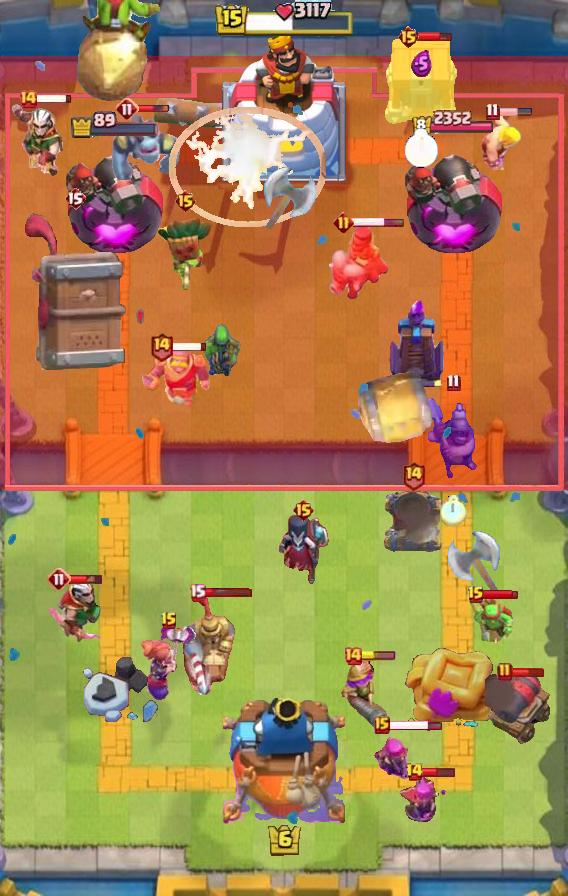archer: (480, 114, 524, 169)
bandit: (423, 395, 483, 483)
barbarian-evolution: (170, 106, 327, 228)
bomb: (382, 39, 460, 125)
bomb-tower: (336, 653, 392, 731)
clock: (213, 0, 355, 40)
dart-goblin: (23, 213, 127, 371)
dirt: (353, 366, 437, 450)
electro-spirit: (412, 51, 433, 78)
elite-barbarian: (326, 223, 390, 303)
elixir: (405, 128, 440, 168), (441, 494, 468, 525)
elixir-golem-small: (108, 112, 182, 180)
emote: (388, 720, 443, 733), (351, 217, 405, 228), (203, 586, 253, 597), (417, 30, 453, 43), (35, 92, 72, 104), (483, 589, 519, 601), (68, 573, 103, 585), (421, 766, 456, 778), (171, 341, 209, 352), (511, 666, 545, 678), (497, 107, 533, 117), (360, 651, 396, 661), (136, 104, 170, 114)
evolution-symbol: (398, 774, 452, 829), (374, 729, 414, 783)
firecracker: (141, 350, 210, 406)
giant-snowball: (202, 322, 242, 380), (468, 596, 514, 644)
goblin-barrel: (155, 215, 215, 291)
ice-spirit-evolution-symbol: (387, 297, 447, 389)
king-tower: (222, 31, 346, 181), (223, 698, 345, 826)
minion: (152, 96, 258, 134)
musketeer: (381, 489, 445, 555)
ram-rider: (178, 589, 238, 699)
rascal-boy: (276, 512, 330, 586)
royal-giant: (261, 164, 319, 236), (445, 528, 503, 600)
royal-giant-evolution: (485, 670, 553, 744)
selected: (69, 111, 158, 139), (411, 111, 495, 138)
skeleton-king: (9, 103, 77, 179), (45, 578, 107, 646)
tesla-evolution: (142, 624, 199, 703)
text: (149, 331, 174, 362), (401, 461, 426, 491), (115, 97, 139, 121), (47, 567, 71, 591), (397, 25, 420, 49), (175, 189, 198, 213), (292, 498, 315, 522), (64, 186, 86, 210), (334, 211, 355, 233), (18, 89, 38, 109), (343, 646, 363, 666), (404, 762, 423, 782), (467, 585, 485, 605), (160, 611, 178, 631), (190, 582, 207, 601), (497, 662, 513, 682), (374, 716, 390, 734), (447, 372, 462, 391), (485, 103, 499, 121)
tower-bar: (64, 138, 164, 256), (403, 138, 503, 256)
x-bow: (74, 0, 164, 104)
